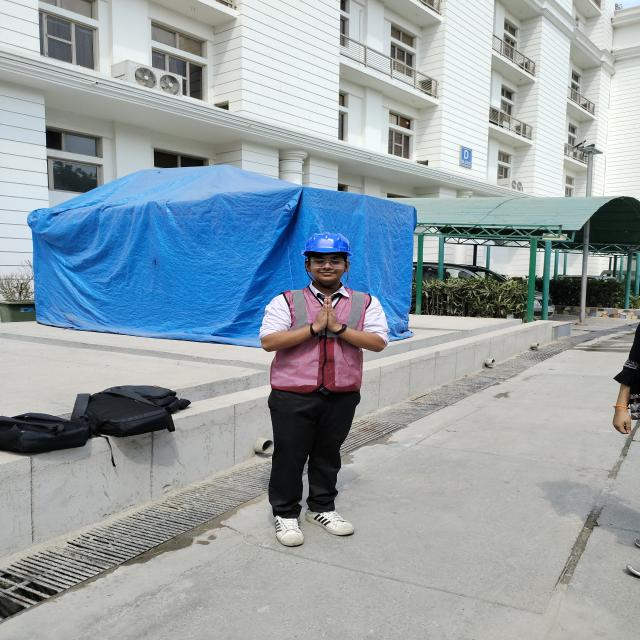safe: (260, 230, 388, 546)
